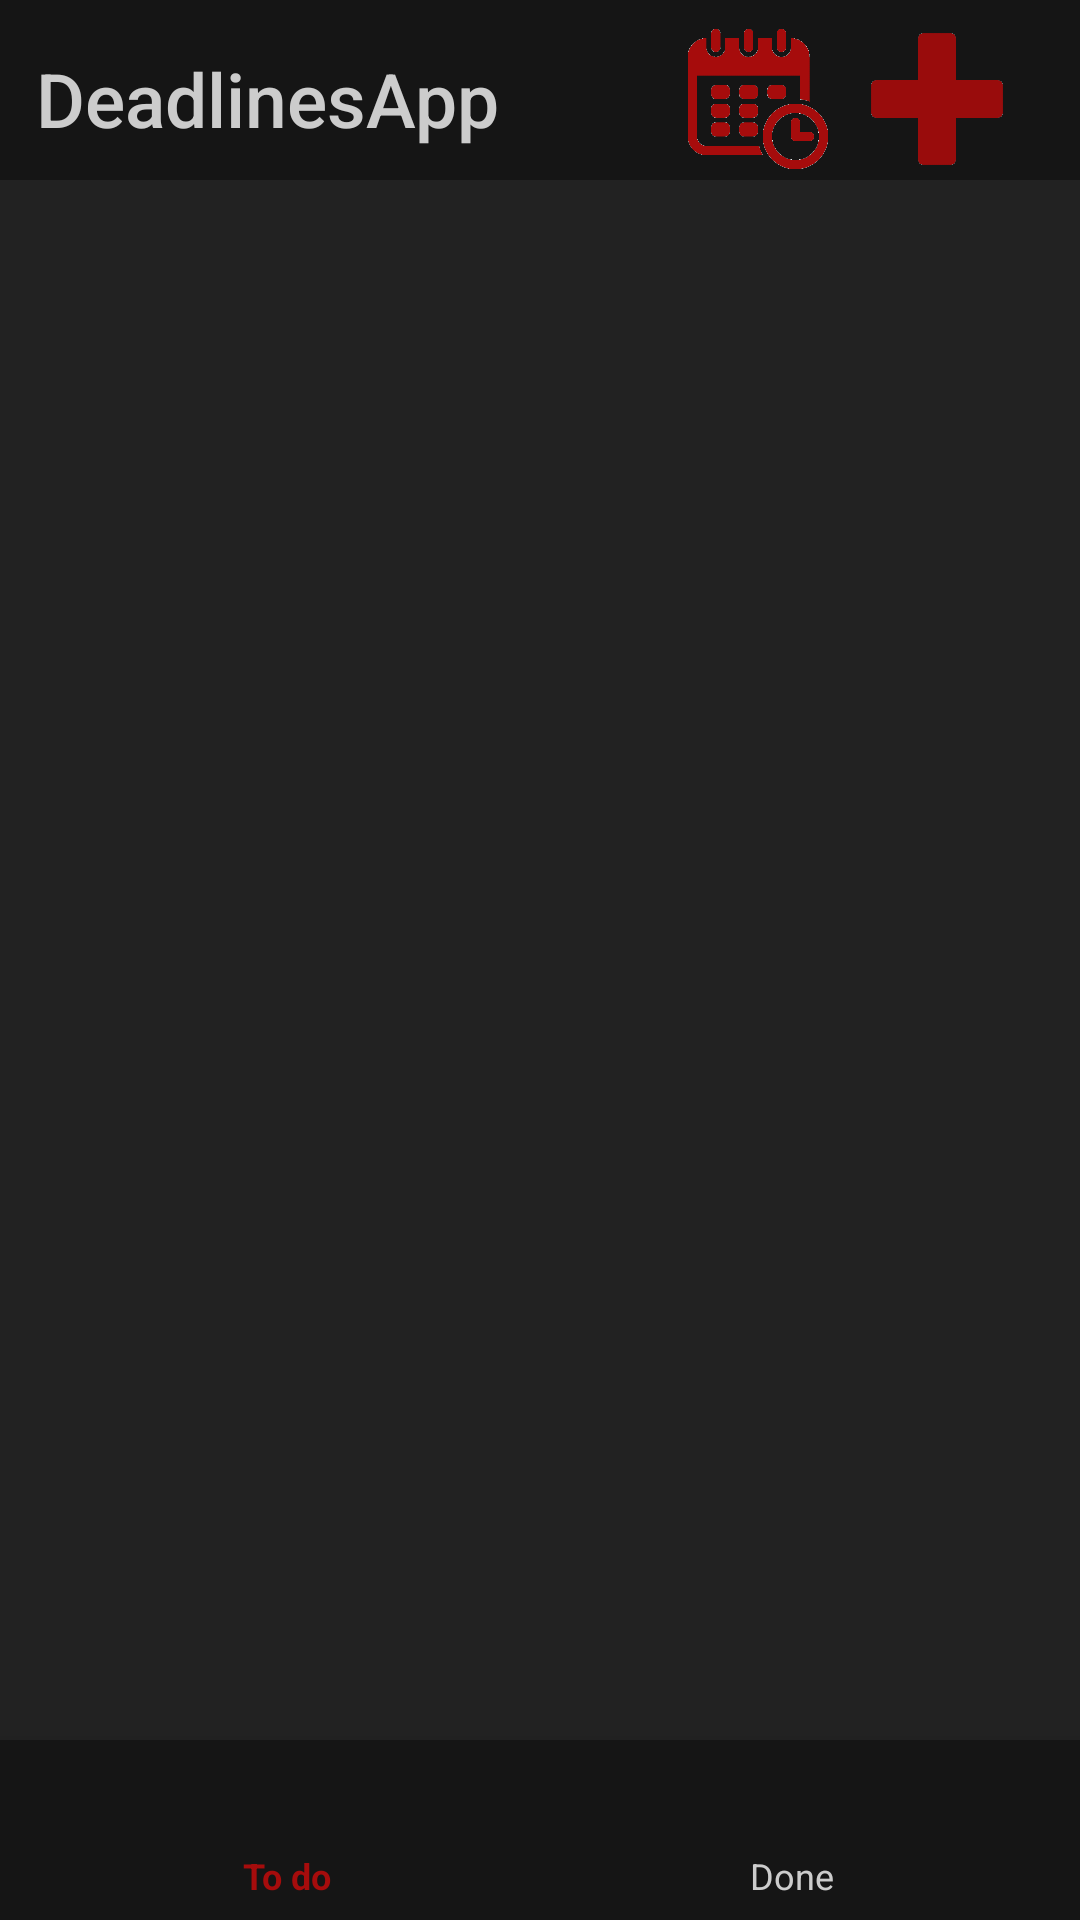

Named icons in this screenshot (1080x1920) and their bounding boxes, box=[x1, y1, x2, y2]:
calendar: box=[688, 29, 828, 169]
plus: box=[871, 33, 1003, 165]
